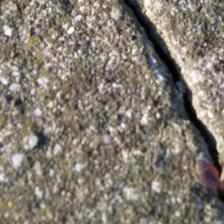Crack: (127, 5, 220, 165)
